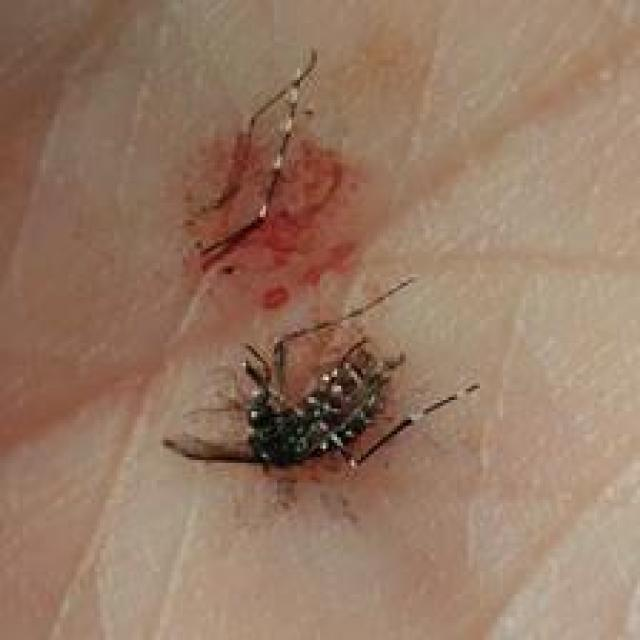Aedes albopictus: (160, 274, 480, 480)
